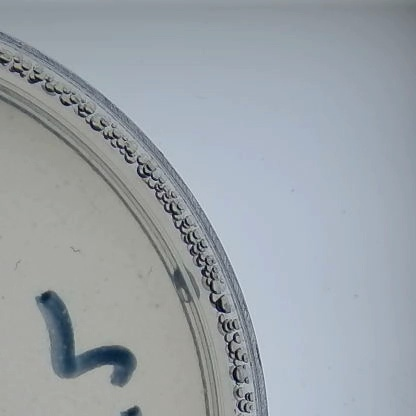worm: (10, 255, 25, 273), (67, 245, 85, 257), (145, 264, 159, 277)
